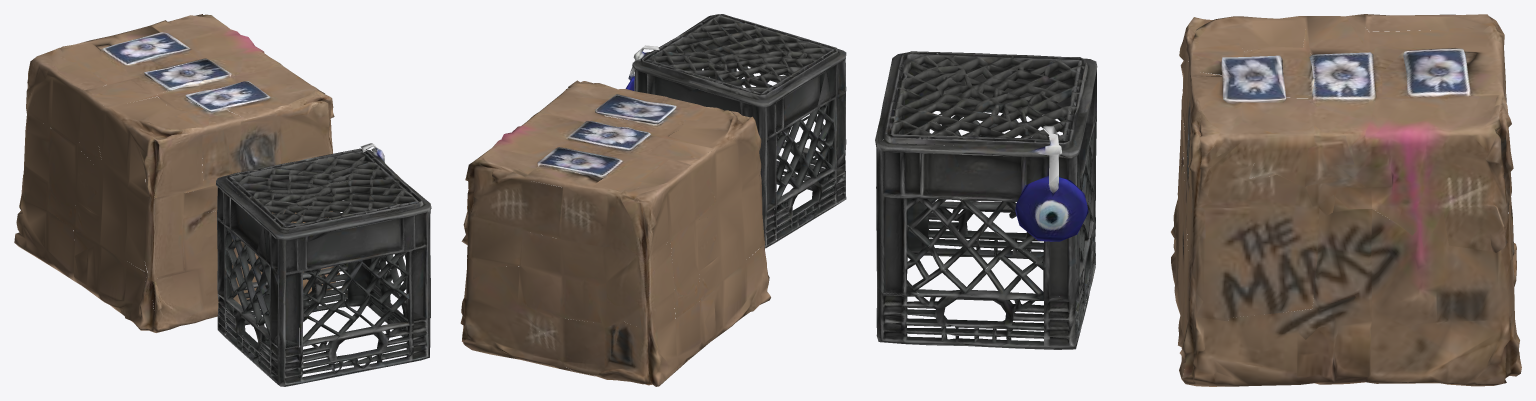
Rendered from marks_monte.glb.
3 renders of one model, left to right at view 1: azimuth 30°, elevation 25°; view 2: azimuth 150°, elevation 25°; view 3: azimuth 270°, elevation 25°, orthographic. The views are drawn at different scales.
Visible parts, largest first — view 1: tripo_node_17dbb86e-dad2-480f-9fe3-9175315544ab; view 2: tripo_node_17dbb86e-dad2-480f-9fe3-9175315544ab; view 3: tripo_node_17dbb86e-dad2-480f-9fe3-9175315544ab.
Part boxes in pixels (x1,y1,x2,y2): tripo_node_17dbb86e-dad2-480f-9fe3-9175315544ab: [14, 14, 431, 386]; tripo_node_17dbb86e-dad2-480f-9fe3-9175315544ab: [460, 14, 846, 386]; tripo_node_17dbb86e-dad2-480f-9fe3-9175315544ab: [875, 14, 1521, 386].
Bounding box in the file's own units: 0.4925 × 0.4422 × 1.
Materials: 1 (1 with a texture image).
